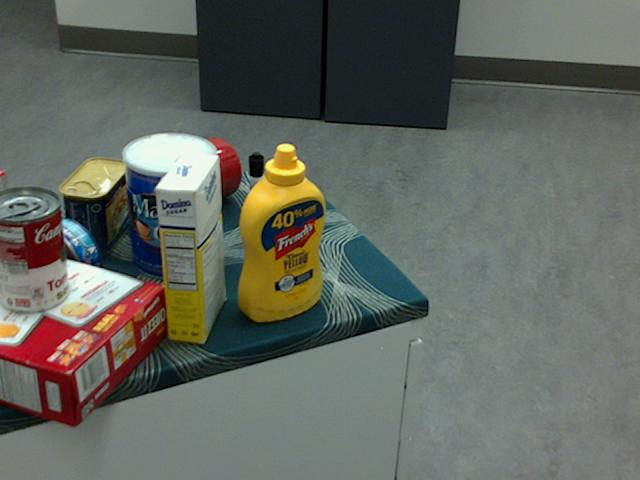cracker_box: (0, 238, 166, 427)
gelatin_box: (0, 170, 11, 232)
large_marker: (249, 151, 265, 245)
master_chef_can: (120, 132, 216, 281)
mug: (151, 137, 240, 215)
mustard_bottle: (237, 142, 326, 321)
potted_meat_can: (58, 155, 129, 257)
sugar_box: (153, 152, 226, 343)
tomato_soup_can: (0, 187, 68, 313)
tuna_fish_can: (22, 218, 101, 301)
